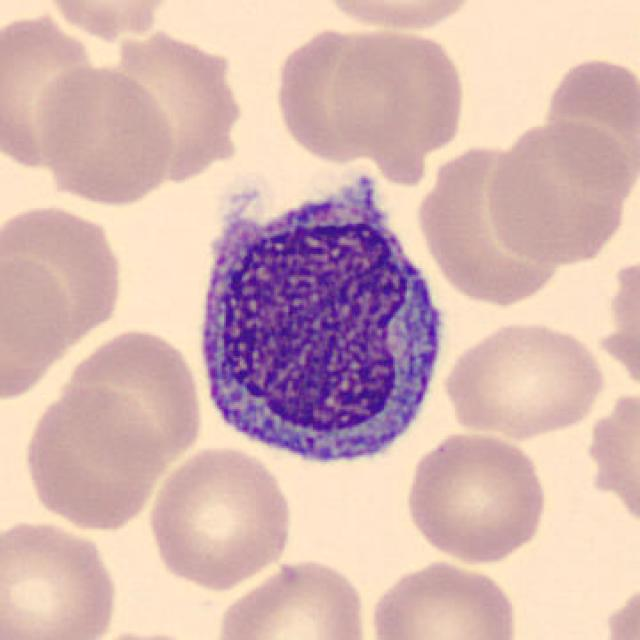Monocyte: (189, 166, 462, 480)
RBC: (417, 146, 562, 310), (480, 115, 635, 268), (89, 26, 245, 174), (144, 442, 297, 590), (20, 381, 166, 531), (59, 324, 206, 471), (34, 60, 178, 208), (439, 316, 610, 440), (400, 428, 551, 566), (268, 19, 409, 166), (0, 198, 130, 352), (327, 21, 469, 159), (0, 6, 103, 168), (535, 49, 638, 196), (0, 516, 122, 640), (209, 553, 373, 640), (364, 557, 522, 640), (0, 247, 75, 404), (578, 392, 640, 525), (36, 0, 183, 41), (312, 0, 483, 35), (601, 256, 640, 386), (599, 573, 638, 640), (67, 627, 218, 640)
